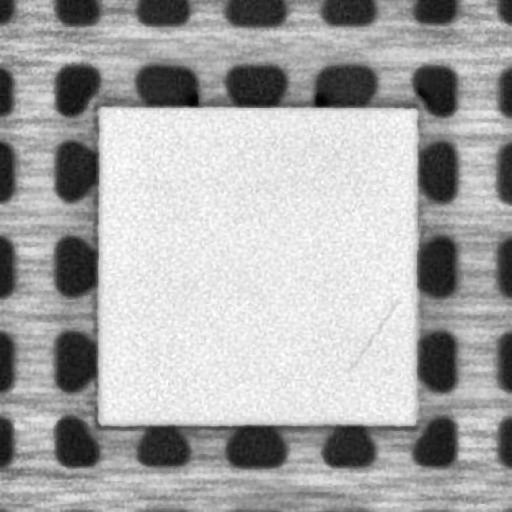DIE_CRACK: (348, 298, 397, 373)
